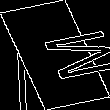M_W: (8, 26, 102, 84)
